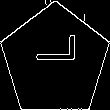L_W: (31, 46, 79, 76)
